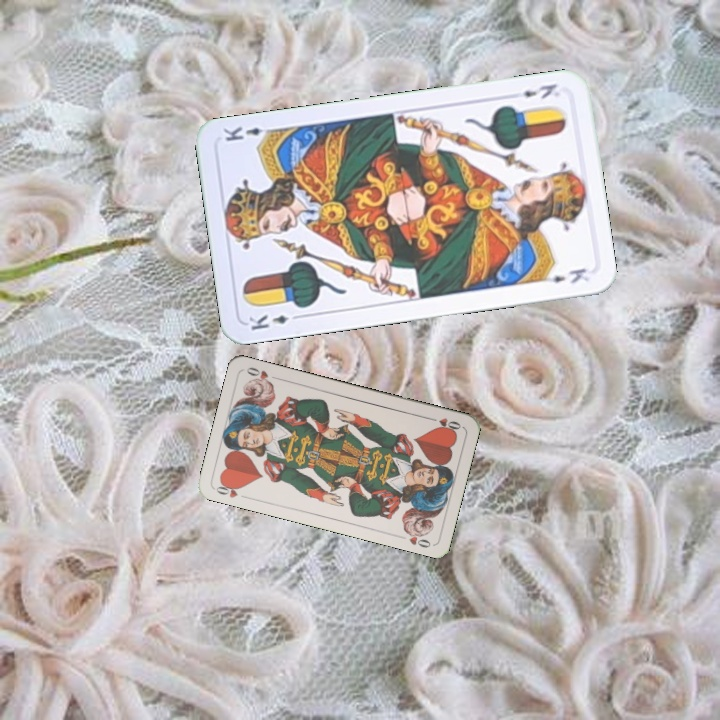EK: (244, 310, 304, 333), (519, 79, 559, 102)
HO: (211, 478, 251, 501), (424, 413, 463, 434)
